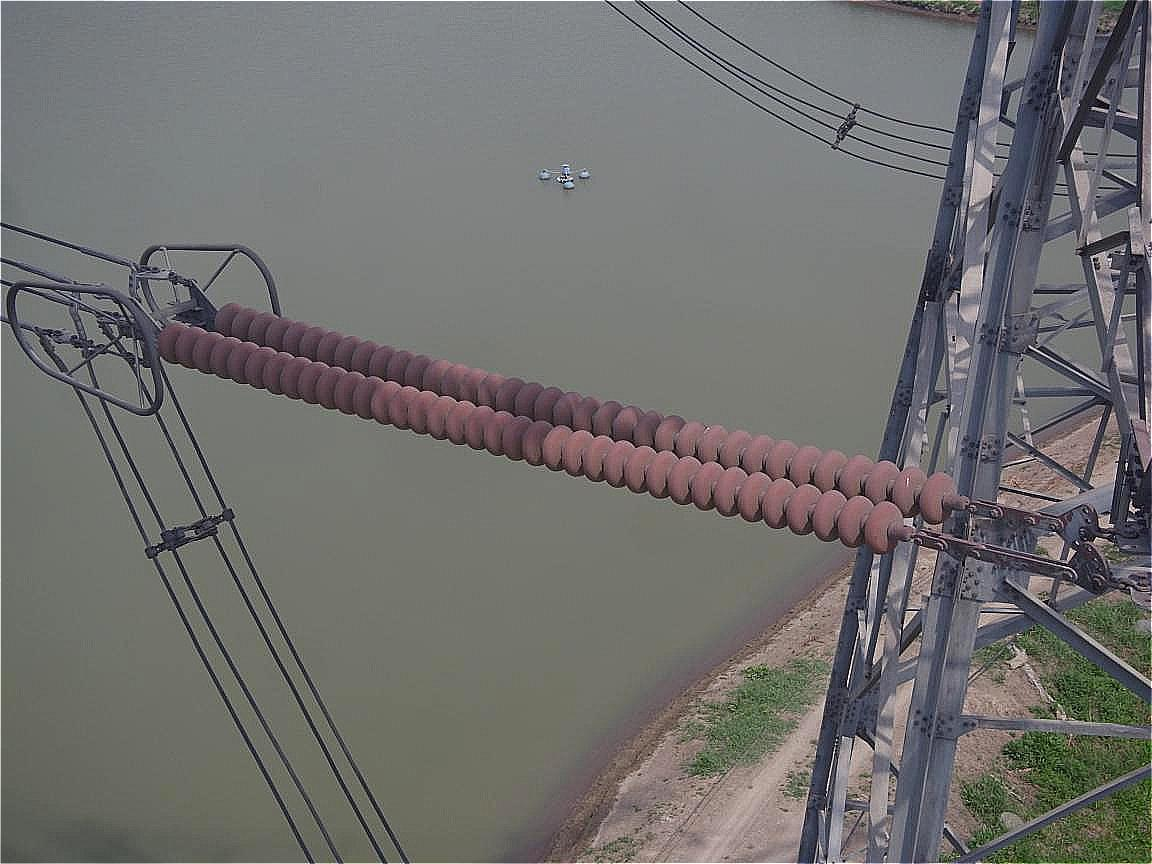insultor1: (154, 294, 972, 562)
